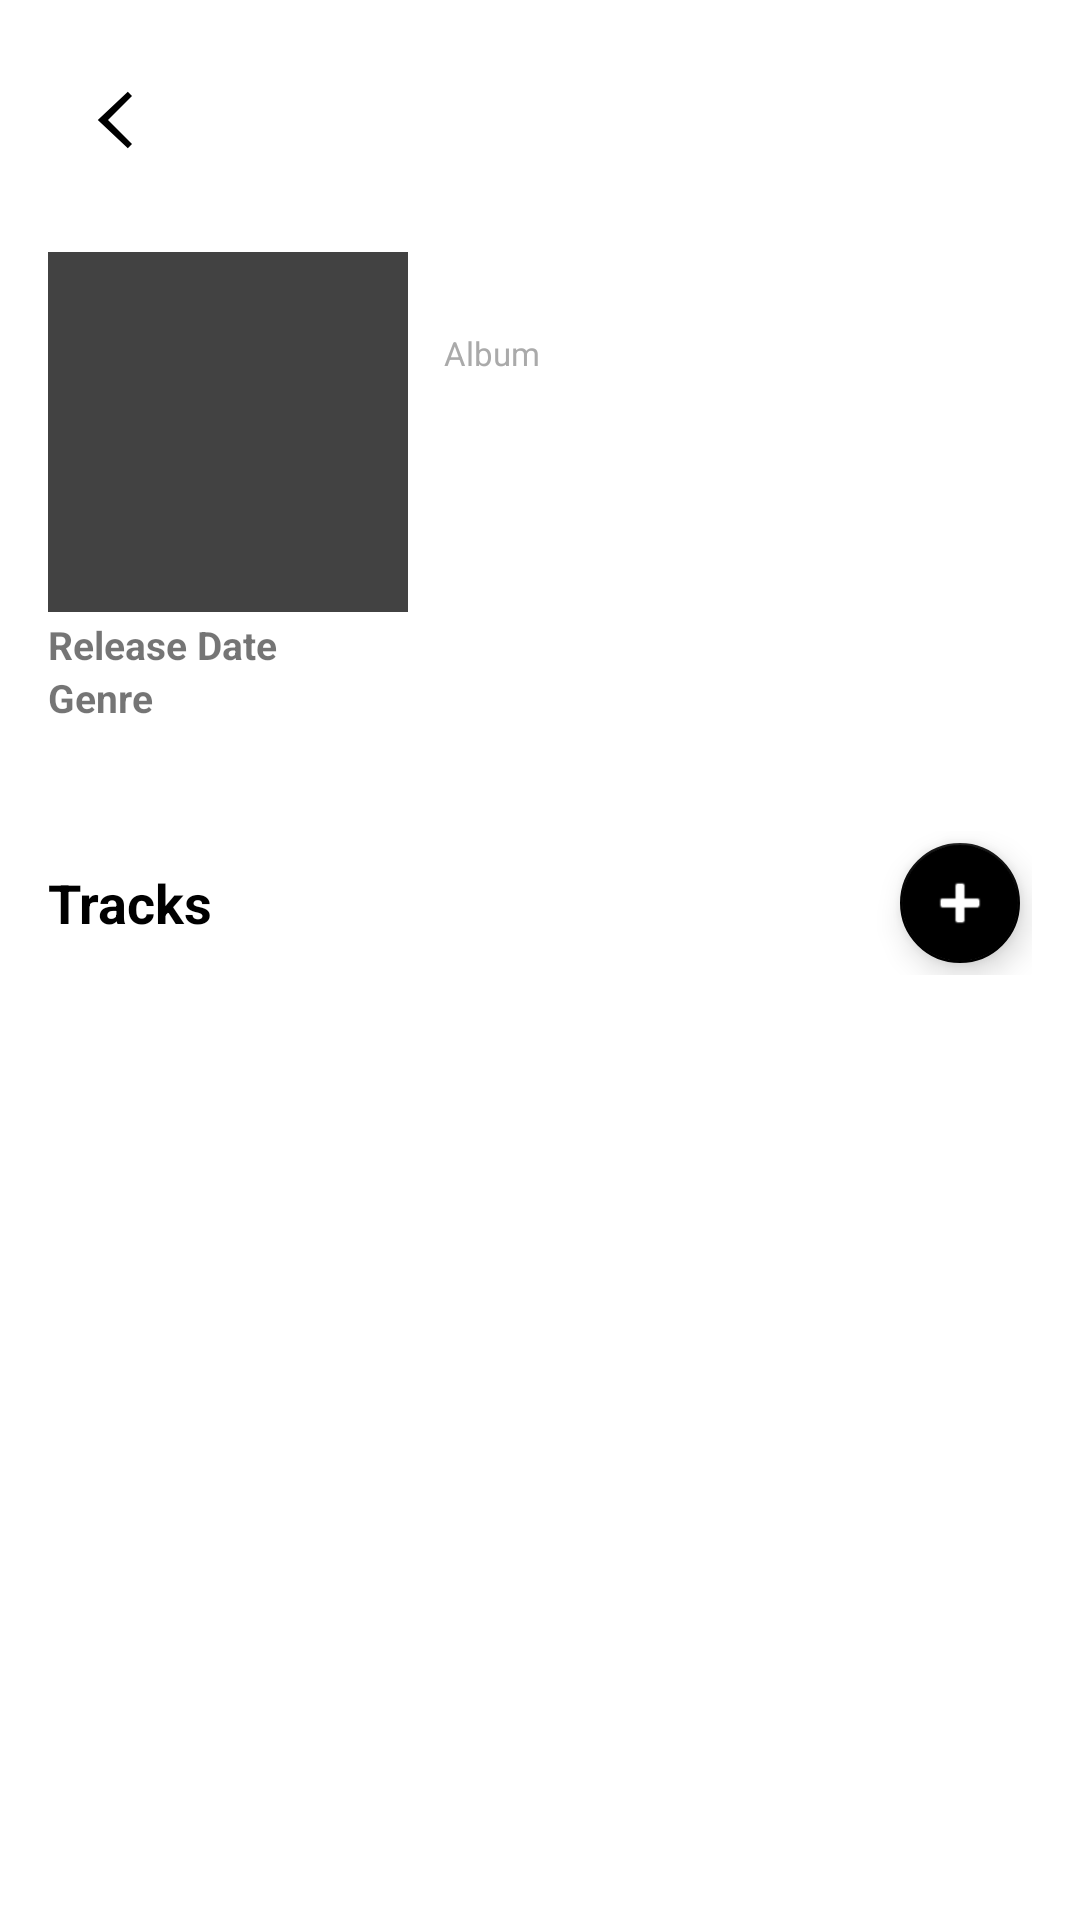

Icons on this 1080*1920 Android screen, each with the point to tap as [x,y]:
add: [961,906]
Back to albums: [115,120]
